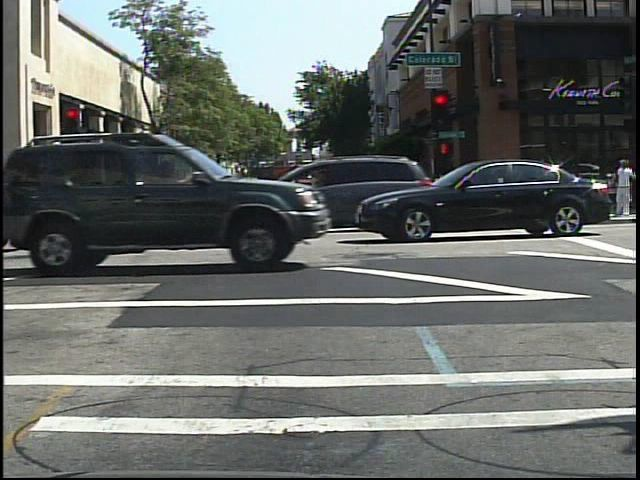person: (614, 155, 637, 220), (164, 180, 182, 220)
